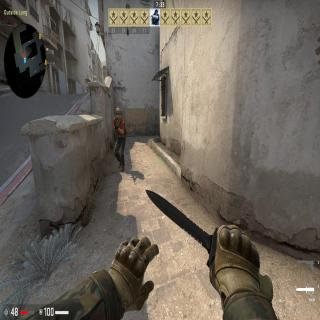T-Body: (114, 108, 126, 170)
T-Head: (115, 108, 121, 119)
